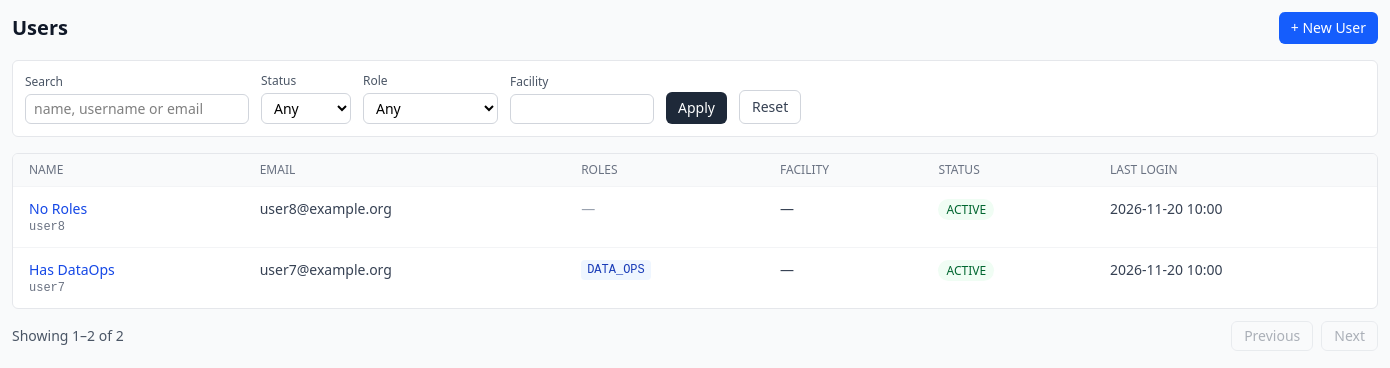
Test: UsersListPage › filters by role using the role picker
Expected: the link "Has DataOps" is shown, [29, 260, 115, 279]
Select "DATA_OPS" in the dropdown labelled "Role": [430, 108] box [363, 93, 498, 124]
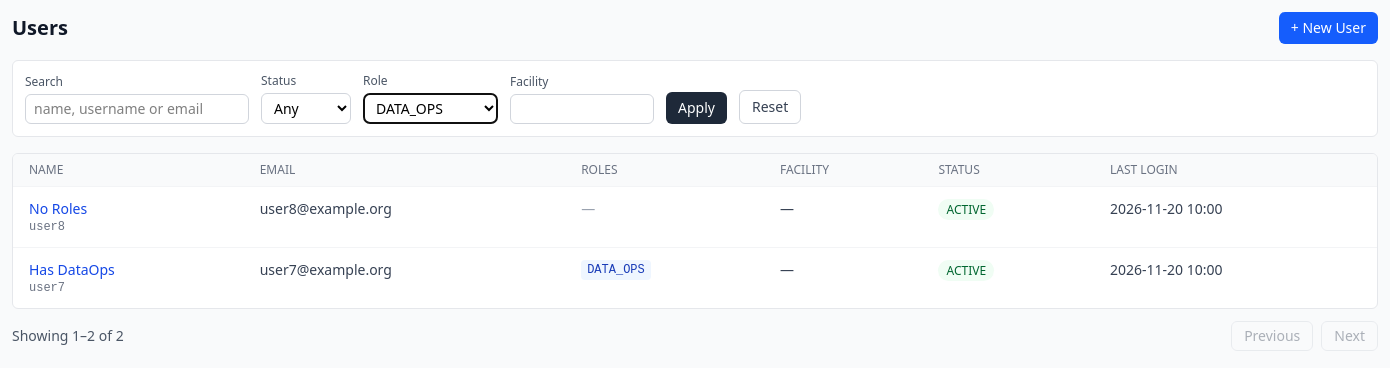
Click the button "Apply": [696, 108] box [666, 92, 727, 124]
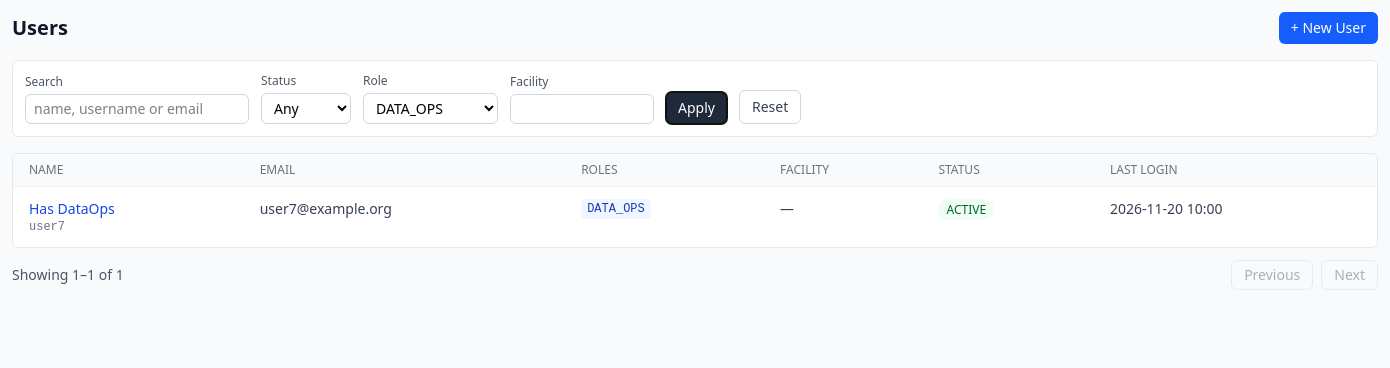
Expected: the link "Has DataOps" is shown, [29, 199, 115, 218]
Expected: the link "No Roles" is gone
